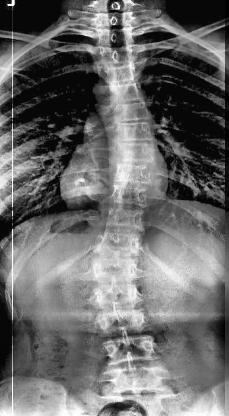Vertebrae: (96, 359, 174, 395), (97, 334, 165, 368), (88, 226, 146, 262), (92, 309, 154, 337), (89, 282, 146, 312), (108, 160, 156, 193), (99, 202, 149, 232), (88, 258, 144, 284), (106, 98, 154, 124), (107, 139, 157, 163), (106, 184, 154, 209), (102, 80, 151, 104), (98, 61, 144, 83), (110, 121, 156, 143), (94, 45, 142, 65), (91, 9, 135, 29), (93, 28, 137, 46)
